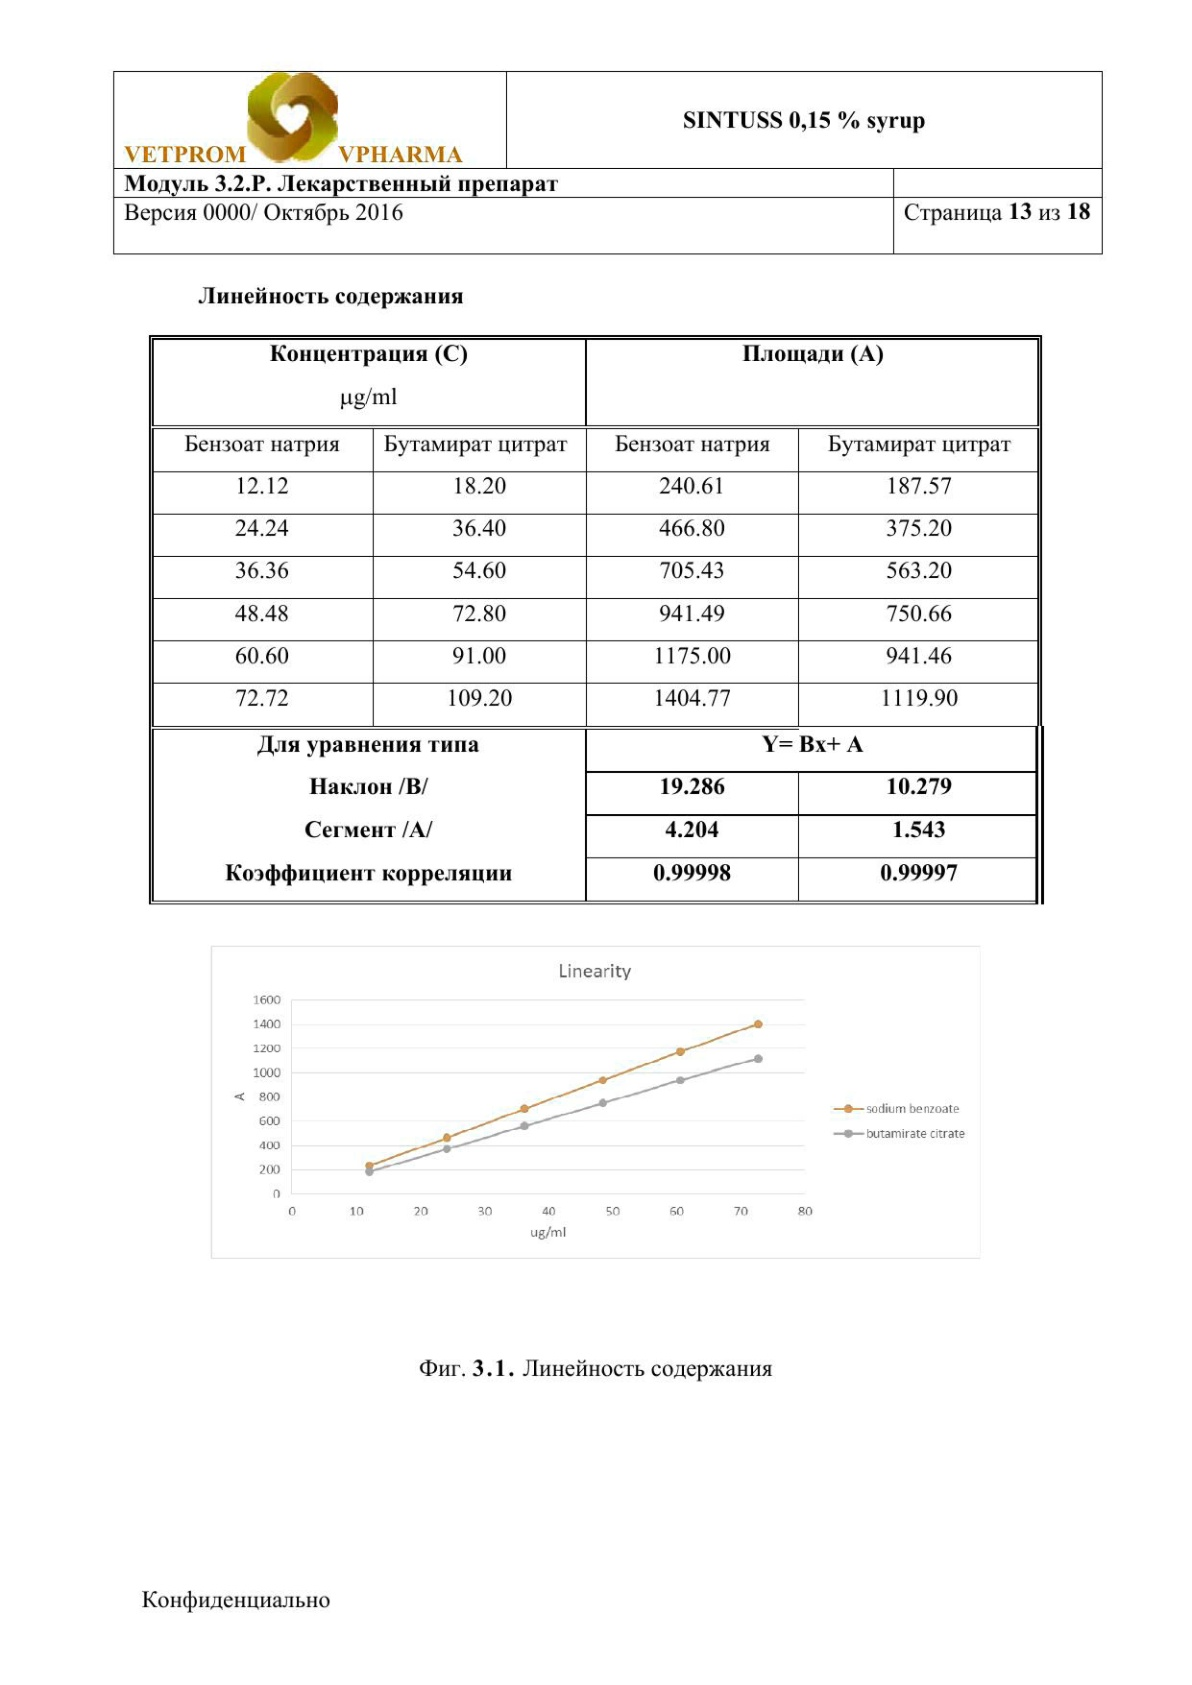merged_cells: (147, 333, 1045, 904), (111, 70, 1106, 255)
